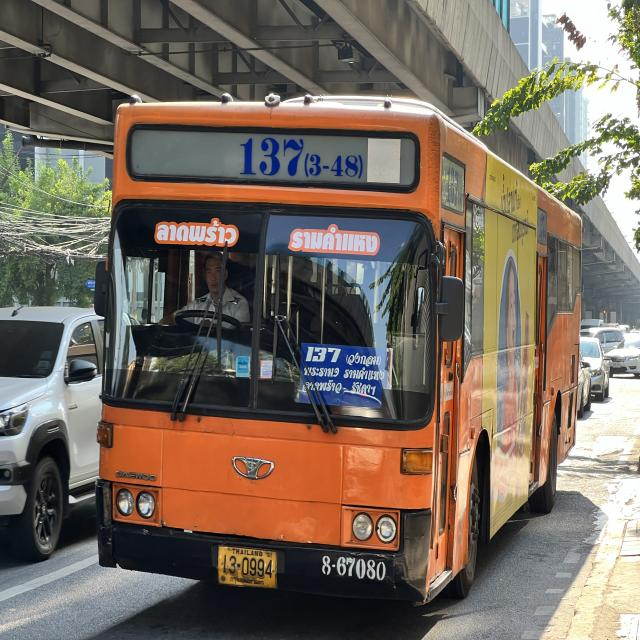BMTA-bus: (94, 96, 584, 610)
Bus-Line-Number: (235, 124, 368, 187)
Destination-Sign-Normal: (296, 343, 387, 417)
